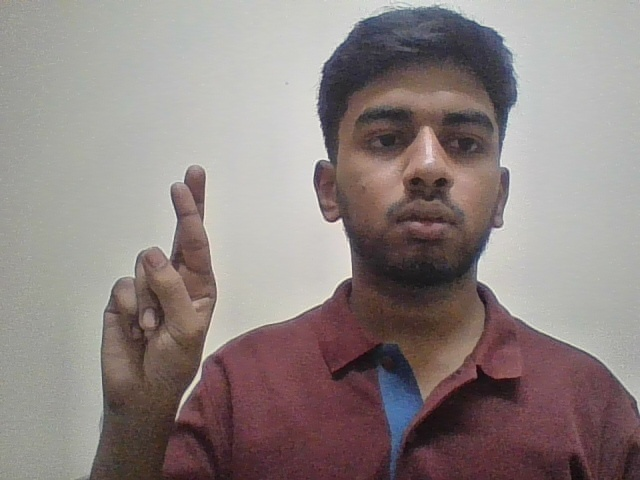R: (87, 135, 222, 450)
